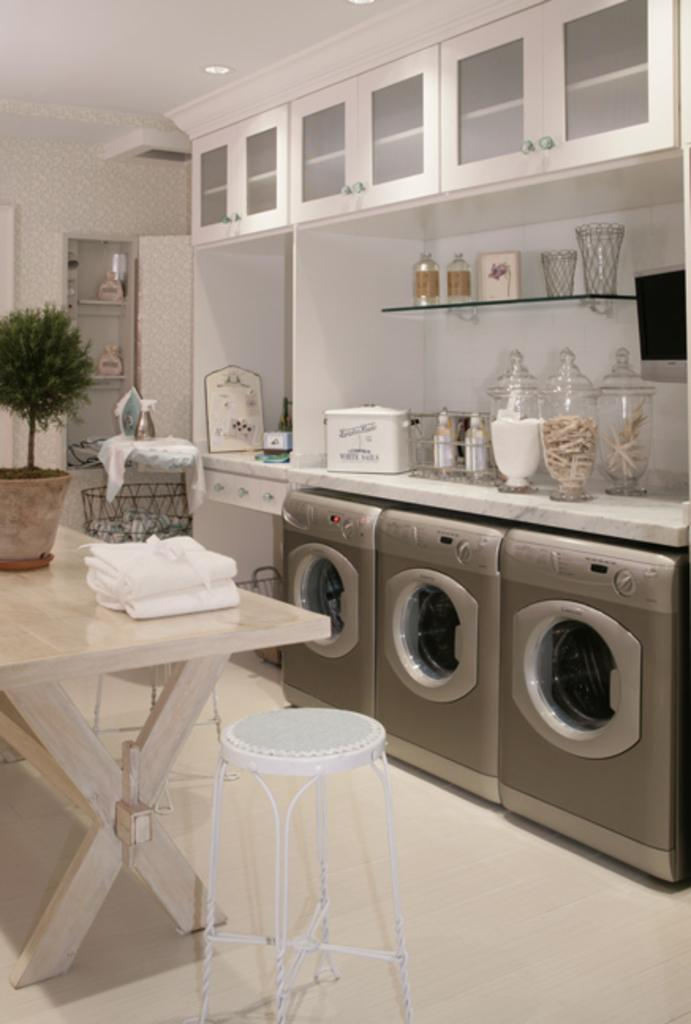cabinet_door: (550, 17, 666, 148), (445, 52, 539, 174), (360, 87, 433, 189), (295, 112, 350, 204), (196, 145, 233, 230), (244, 130, 279, 218)
handle: (522, 136, 534, 162), (542, 134, 554, 158), (354, 176, 364, 199), (341, 180, 351, 200)
